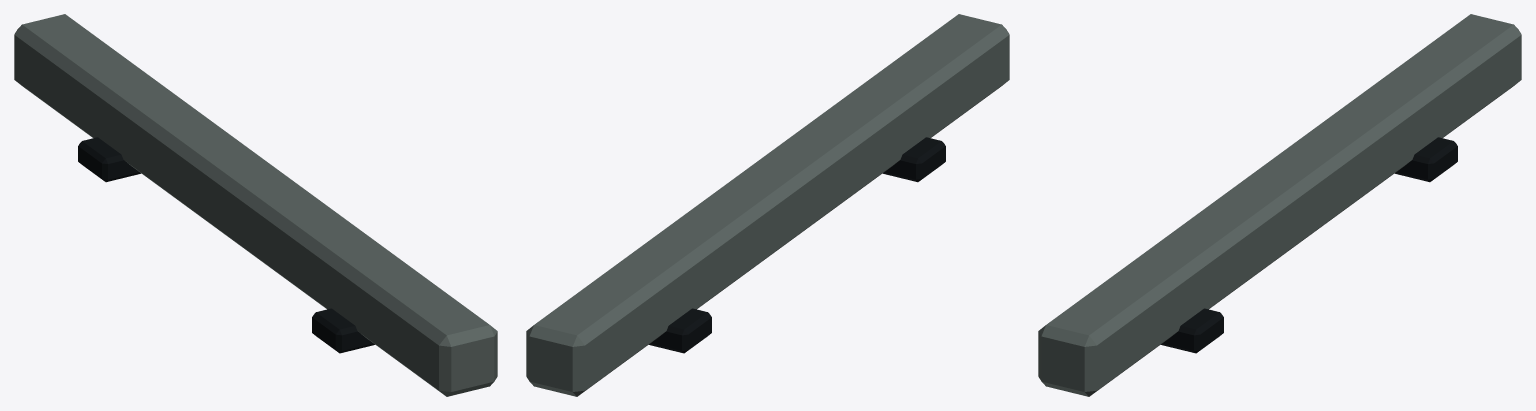
File: MissileATSingle__Rail.obj
3 views of the same model, side by side, from view 1: azimuth 30°, elevation 25°; view 2: azimuth 150°, elevation 25°; view 3: azimuth 330°, elevation 25° (orthographic).
Visible parts, largest first — view 1: Rail_spine, Rail_retaining_lug.001, Rail_retaining_lug; view 2: Rail_spine, Rail_retaining_lug, Rail_retaining_lug.001; view 3: Rail_spine, Rail_retaining_lug.001, Rail_retaining_lug.
Part boxes in pixels (left/top/right/bottom): Rail_spine: left=14, top=14, right=497, bottom=396; Rail_retaining_lug.001: left=78, top=137, right=140, bottom=182; Rail_retaining_lug: left=312, top=308, right=374, bottom=353; Rail_spine: left=526, top=14, right=1009, bottom=396; Rail_retaining_lug: left=883, top=137, right=945, bottom=182; Rail_retaining_lug.001: left=649, top=308, right=711, bottom=353; Rail_spine: left=1038, top=14, right=1521, bottom=396; Rail_retaining_lug.001: left=1395, top=137, right=1457, bottom=182; Rail_retaining_lug: left=1161, top=308, right=1223, bottom=353.
Size of the model in its own units: 0.15 by 0.1075 by 1.15.
